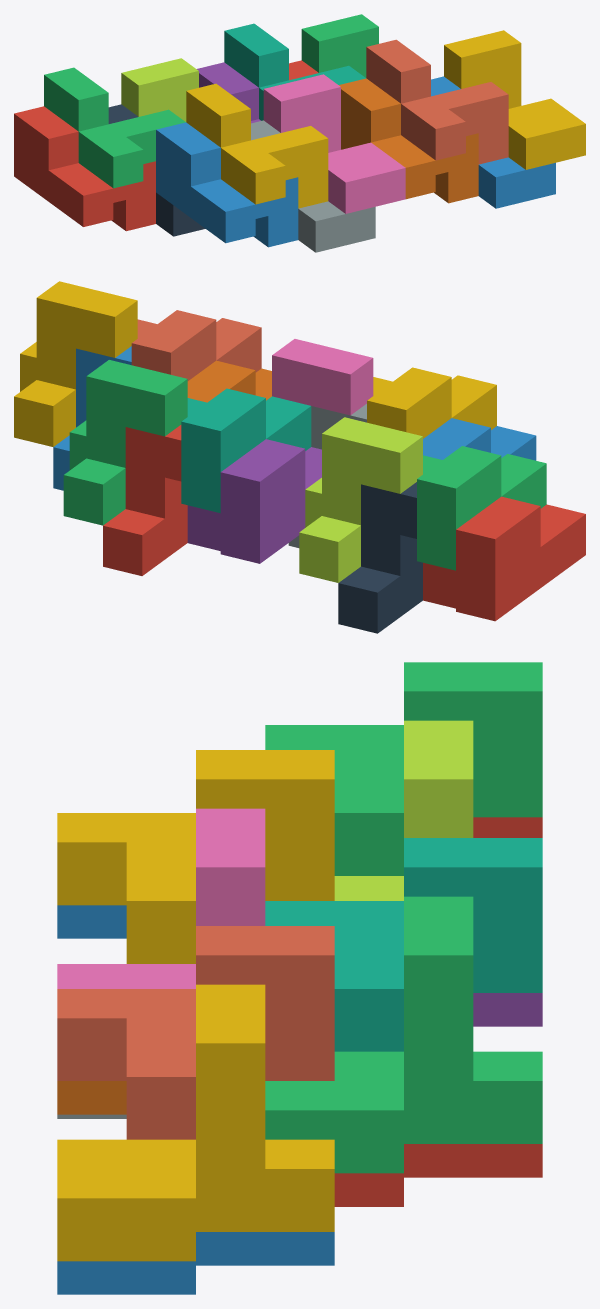
Rendered from tiling.obj.
3 renders of one model, top to bottom at view 1: azimuth 30°, elevation 25°; view 2: azimuth 150°, elevation 25°; view 3: azimuth 270°, elevation 25°, orthographic. The views are drawn at different scales.
Parts seen in each view (by area): view 1: copy_1_domain_8, copy_1_domain_4, copy_1_domain_2, copy_1_domain_1, copy_2_domain_8, copy_2_domain_4, copy_1_domain_3, copy_1_domain_6, copy_1_domain_7, copy_2_domain_3, copy_2_domain_7, copy_2_domain_6 (+4 smaller); view 2: copy_1_domain_1, copy_2_domain_7, copy_2_domain_8, copy_2_domain_3, copy_1_domain_5, copy_1_domain_7, copy_2_domain_5, copy_1_domain_3, copy_2_domain_1, copy_1_domain_8, copy_1_domain_4, copy_2_domain_4 (+4 smaller); view 3: copy_2_domain_8, copy_2_domain_7, copy_1_domain_8, copy_1_domain_4, copy_1_domain_3, copy_1_domain_7, copy_2_domain_4, copy_2_domain_3, copy_2_domain_6, copy_2_domain_5, copy_1_domain_2, copy_1_domain_5 (+2 smaller).
Boxes of the visible parts, x1=… form: copy_1_domain_8: x1=366, y1=39, x2=508, y2=164; copy_1_domain_4: x1=186, y1=83, x2=328, y2=208; copy_1_domain_2: x1=156, y1=122, x2=298, y2=247; copy_1_domain_1: x1=14, y1=106, x2=155, y2=231; copy_2_domain_8: x1=444, y1=30, x2=585, y2=169; copy_2_domain_4: x1=263, y1=74, x2=405, y2=213; copy_1_domain_3: x1=44, y1=67, x2=185, y2=188; copy_1_domain_6: x1=339, y1=78, x2=478, y2=203; copy_1_domain_7: x1=224, y1=23, x2=365, y2=120; copy_2_domain_3: x1=121, y1=58, x2=198, y2=121; copy_2_domain_7: x1=301, y1=14, x2=378, y2=77; copy_2_domain_6: x1=431, y1=76, x2=555, y2=208; copy_1_domain_1: x1=423, y1=496, x2=585, y2=621; copy_2_domain_7: x1=63, y1=360, x2=187, y2=525; copy_2_domain_8: x1=14, y1=281, x2=137, y2=446; copy_2_domain_3: x1=299, y1=417, x2=422, y2=582; copy_1_domain_5: x1=187, y1=439, x2=321, y2=563; copy_1_domain_7: x1=181, y1=388, x2=311, y2=513; copy_2_domain_5: x1=103, y1=425, x2=187, y2=575; copy_1_domain_3: x1=417, y1=446, x2=546, y2=570; copy_2_domain_1: x1=338, y1=482, x2=422, y2=633; copy_1_domain_8: x1=131, y1=310, x2=261, y2=380; copy_1_domain_4: x1=367, y1=367, x2=496, y2=438; copy_2_domain_4: x1=272, y1=339, x2=373, y2=415; copy_2_domain_8: x1=57, y1=984, x2=334, y2=1261; copy_2_domain_7: x1=265, y1=896, x2=542, y2=1173; copy_1_domain_8: x1=57, y1=926, x2=334, y2=1139; copy_1_domain_4: x1=57, y1=750, x2=334, y2=963; copy_1_domain_3: x1=265, y1=662, x2=542, y2=875; copy_1_domain_7: x1=265, y1=838, x2=542, y2=1051; copy_2_domain_4: x1=57, y1=808, x2=265, y2=988; copy_2_domain_3: x1=334, y1=720, x2=473, y2=900; copy_2_domain_6: x1=57, y1=1232, x2=334, y2=1294; copy_2_domain_5: x1=334, y1=1144, x2=542, y2=1206; copy_1_domain_2: x1=57, y1=905, x2=126, y2=938; copy_1_domain_5: x1=473, y1=993, x2=542, y2=1026.
Size of the model in its own units: 15 by 4 by 7.
